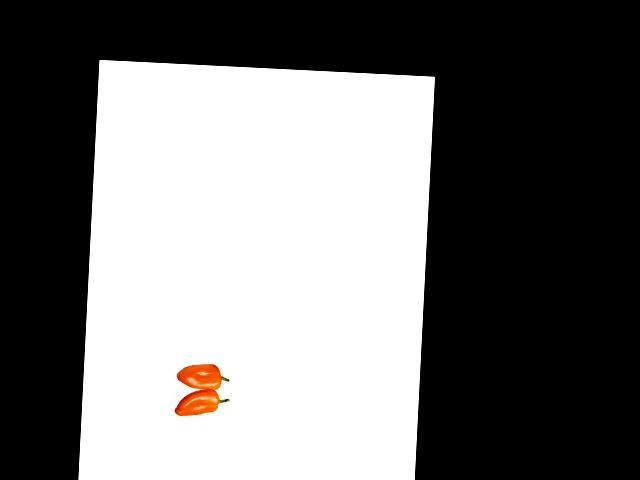bell_pepper: (165, 356, 231, 391)
